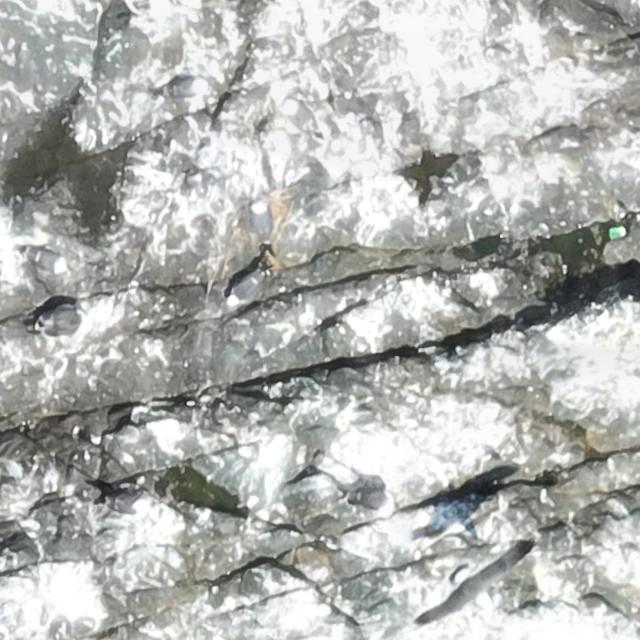F: (423, 541, 530, 623)
umineko: (229, 258, 268, 308), (28, 304, 92, 334), (163, 76, 209, 101), (348, 487, 393, 509), (253, 204, 271, 240), (539, 491, 557, 511)
